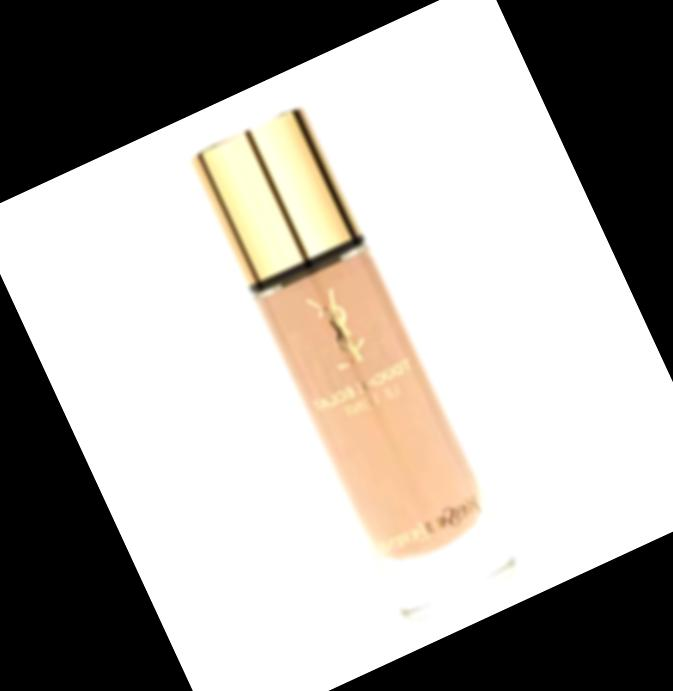cosmetic: (180, 99, 522, 630)
